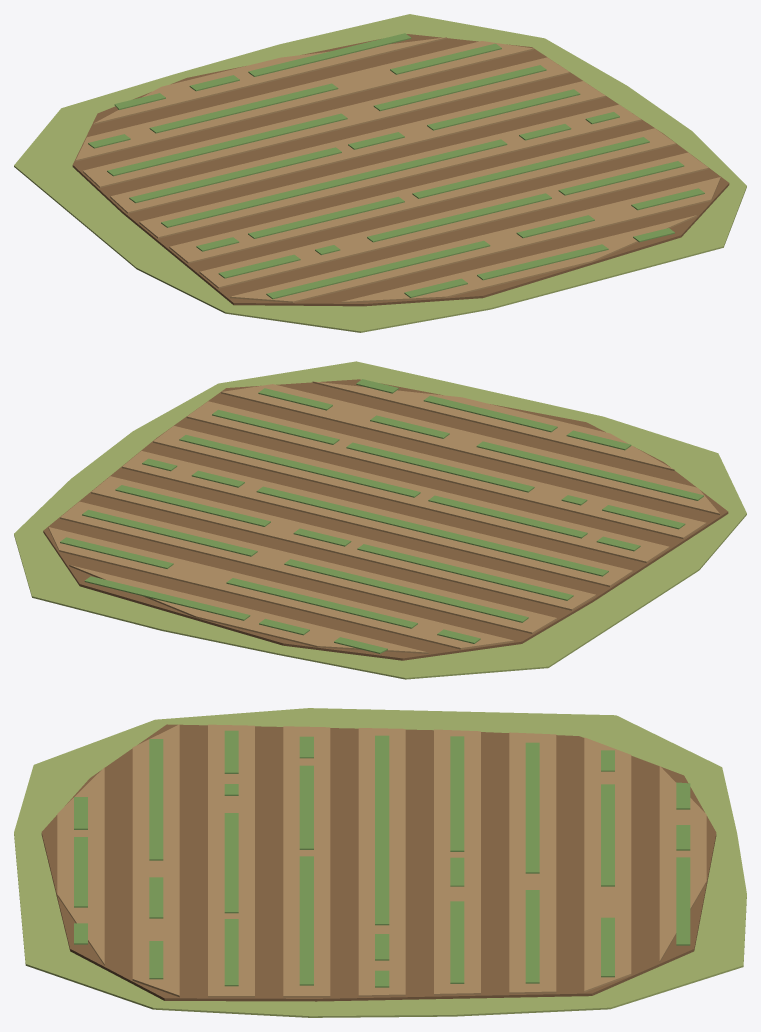
File: field-sprouting.glb
The picture shows the model from 3 angles, top to bottom: view 1: azimuth 30°, elevation 25°; view 2: azimuth 150°, elevation 25°; view 3: azimuth 270°, elevation 25°; orthographic projection. The views are drawn at different scales.
Visible parts, largest first — view 1: field-sprouting; view 2: field-sprouting; view 3: field-sprouting.
Boxes of the visible parts, bbox=[...] form: field-sprouting: bbox=[14, 14, 746, 332]; field-sprouting: bbox=[14, 361, 746, 679]; field-sprouting: bbox=[14, 708, 746, 1017].
Size of the model in its own units: 15.5 by 0.17 by 15.58.
Materials: 1 (1 with a texture image).
